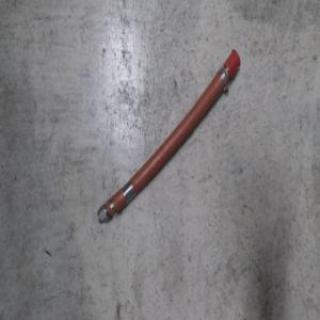Hosetrack_idkeyframe: (94, 46, 242, 228)
